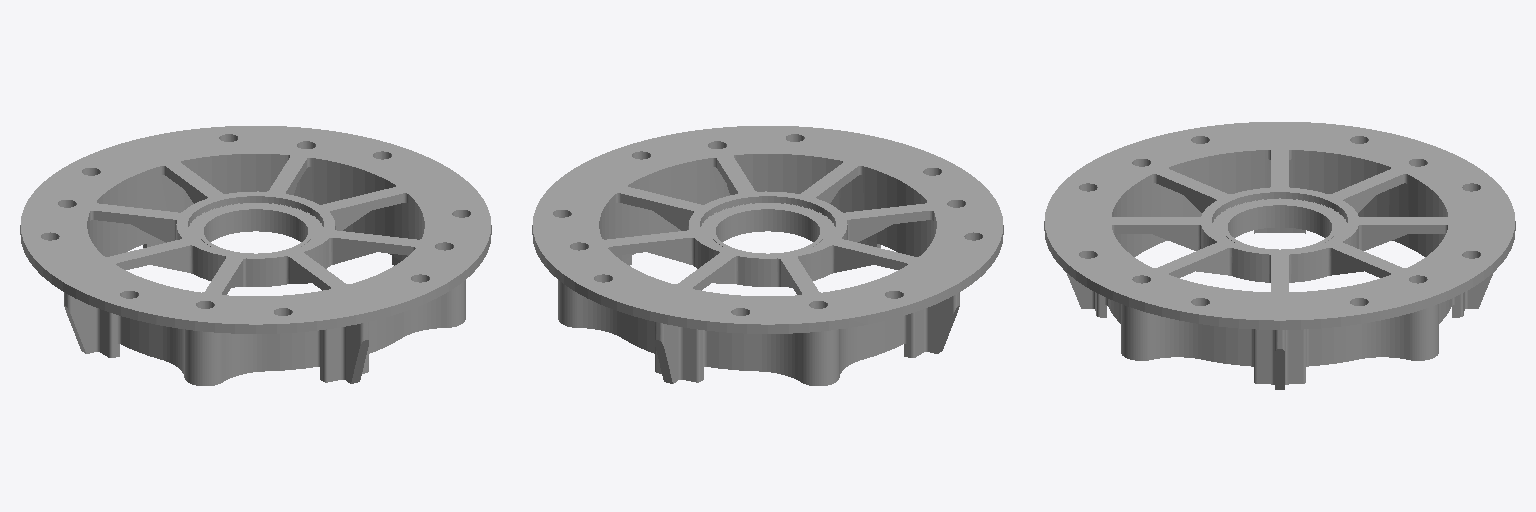
robot.urdf — L2:
<robot name="L2">
	<link name="baselink" />
	<joint name="dummy" type="fixed">
		<parent link="baselink" />
		<child link="geometry" />
	</joint>
	<link name="geometry">
		<contact>
			<lateral_friction value="1.0" />
			<spinning_friction value="0.2" />
			<rolling_friction value="0.001" />
			<contact_cfm value="0.0" />
			<contact_erp value="0.8" />
			<damping value="1000" />
			<stiffness value="30000" />
		</contact>
		<inertial>
			<origin rpy="0 0 0" xyz="-4.186913907608125e-15 0.009979623418208653 90.41789012075247" />
			<mass value="1.0" />
			<inertia ixx="1" ixy="0" ixz="0" iyy="1" iyz="0" izz="1" />
		</inertial>
		<visual>
			<origin rpy="0 0 0" xyz="0 0 0" />
			<geometry>
				<mesh filename="mesh/L2.stl" />
			</geometry>
			<material name="base">
				<color rgba="0.7 0.7 0.7 1" />
			</material>
		</visual>
		<collision>
			<origin rpy="0 0 0" xyz="0 0 0" />
			<geometry>
				<mesh filename="mesh/L2.stl" />
			</geometry>
		</collision>
	</link>
</robot>

--- Render facts (derived) ---
Views: 3 orthographic renders of the robot side by side, from view 1: azimuth 30°, elevation 25°; view 2: azimuth 150°, elevation 25°; view 3: azimuth 270°, elevation 25°.
Model L2 with 2 links and 1 joints (1 fixed), rooted at baselink, posed all joints at 0.
Visible links, largest first — view 1: geometry; view 2: geometry; view 3: geometry.
Link boxes in pixels (x1,y1,x2,y2): geometry: (20,126,491,385); geometry: (532,126,1003,385); geometry: (1044,122,1515,389).
Size in the robot's own frame: 135 by 135 by 27 metres.
Meshes: 1 distinct files referenced, 1 mesh visuals loaded (1 binary STL).